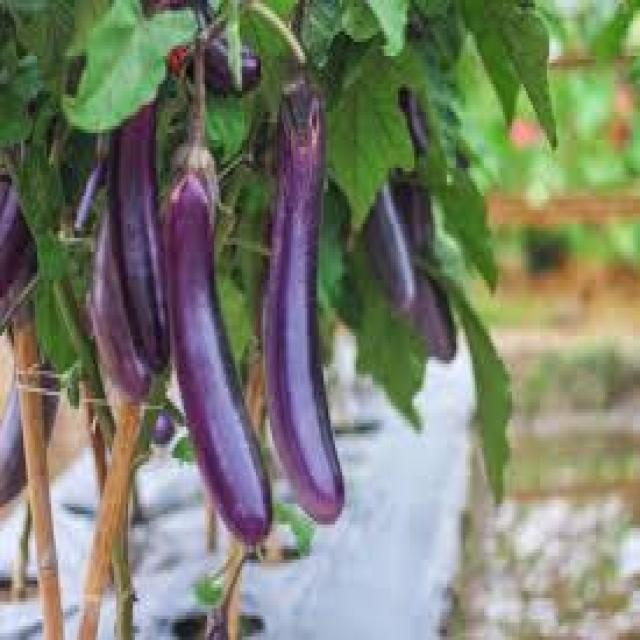Eggplant: (161, 79, 276, 548), (261, 51, 347, 524), (107, 0, 178, 368), (0, 305, 69, 514), (0, 56, 50, 302), (363, 158, 430, 314), (394, 246, 464, 364), (386, 33, 435, 168)
